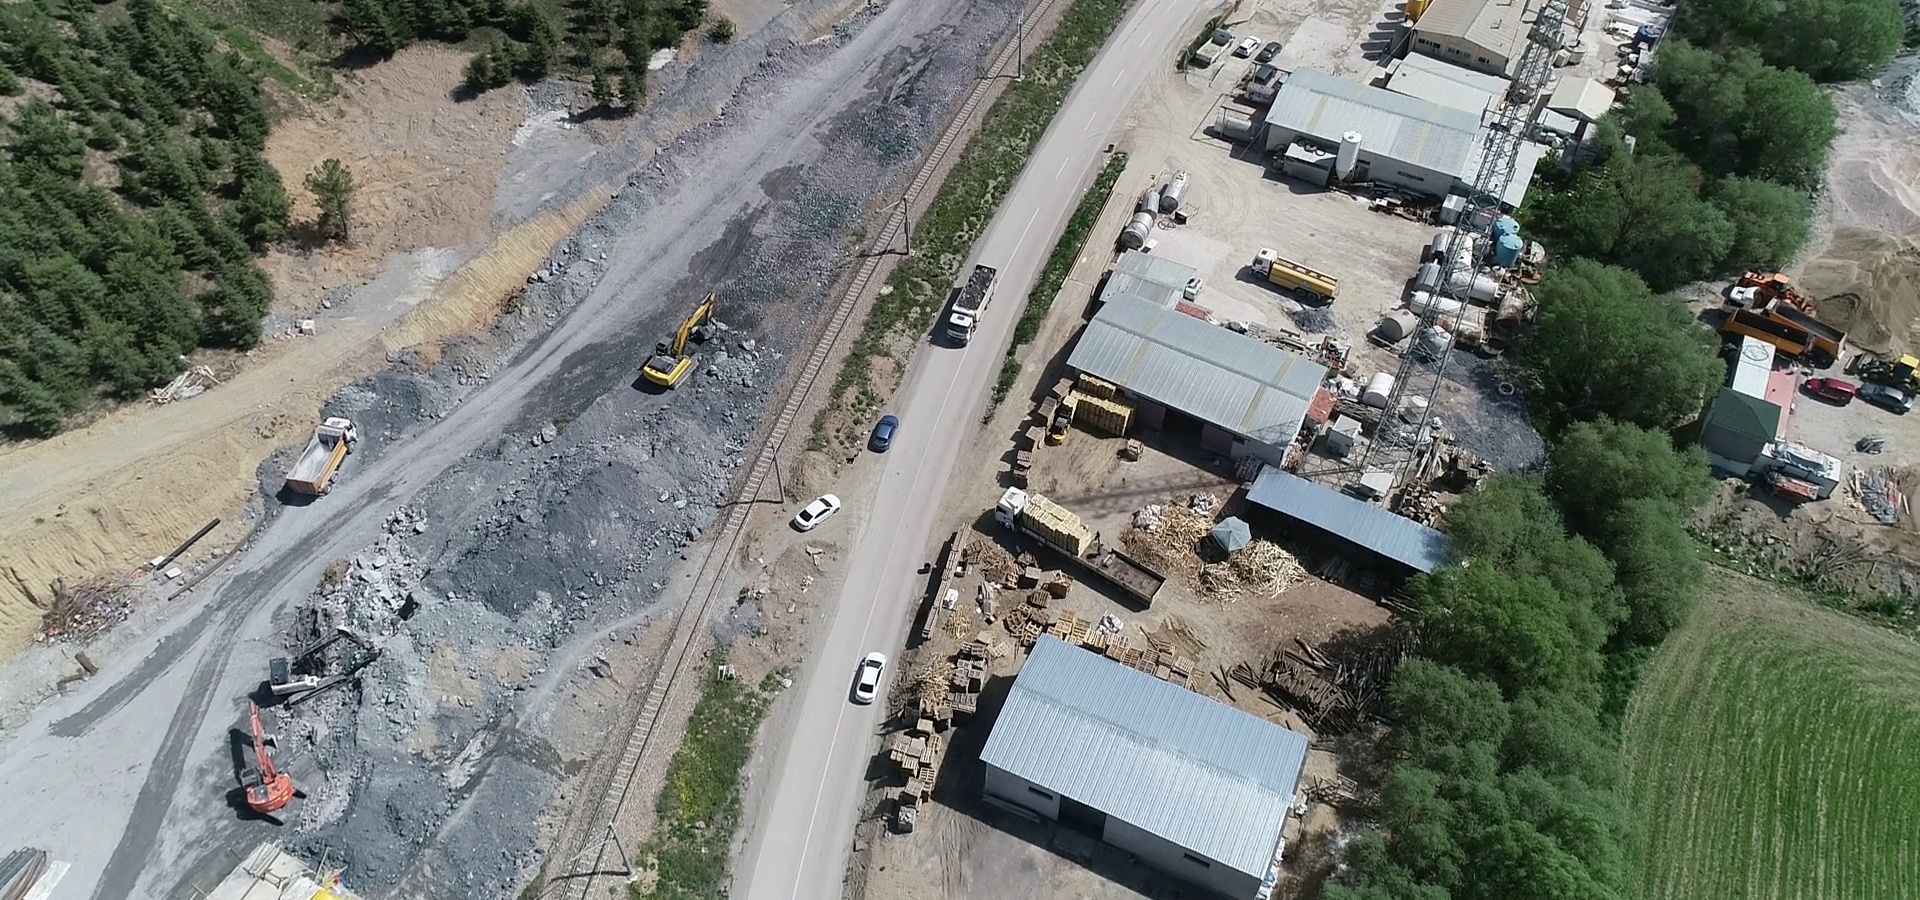araba: (1795, 358, 1855, 407), (787, 487, 839, 540), (845, 637, 883, 702), (1858, 380, 1918, 415), (868, 409, 901, 457)
ismakinasi: (262, 616, 384, 711), (231, 691, 310, 827), (642, 289, 725, 387)
kamyon: (989, 484, 1171, 613), (280, 415, 372, 513), (1244, 242, 1348, 298), (940, 260, 997, 361)
traktor: (1848, 347, 1920, 389)
